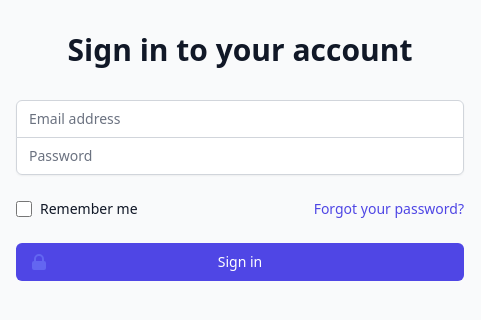
Login Component › login fails with incorrect credentials
In the field with placeholder "Email address": point(240, 118) 16,100 -> 464,138, type "wrong@example.com"
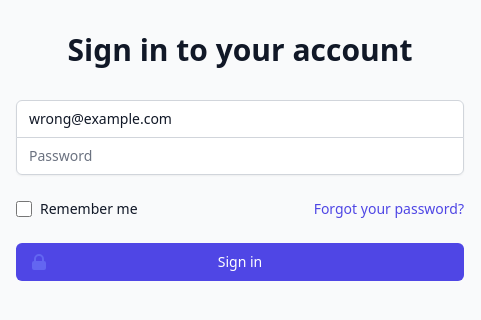
In the password field with placeholder "Password": point(240, 156) 16,136 -> 464,174, type "wrongpassword"
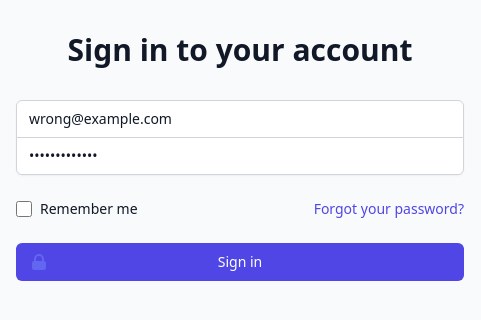
Click the button "Sign in": point(240, 262) 16,242 -> 464,280
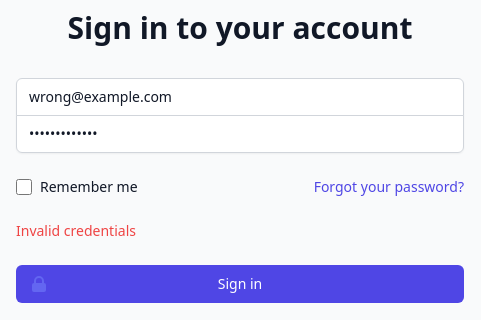
Expected: the text "Invalid credentials" is shown, 16,220 -> 136,240
